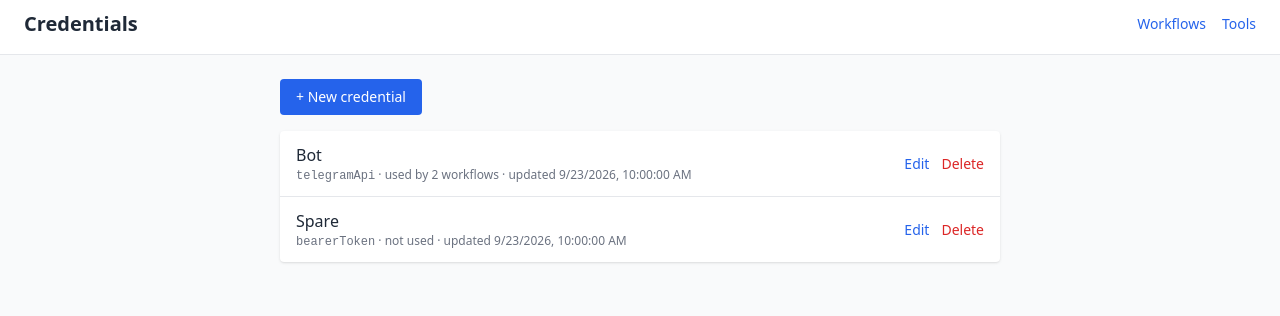
Test: CredentialsView › names the workflows when deletion is refused
Click the button with test id "delete-credential" in the row of "telegramApi" at (963, 164), box [941,154,984,174]
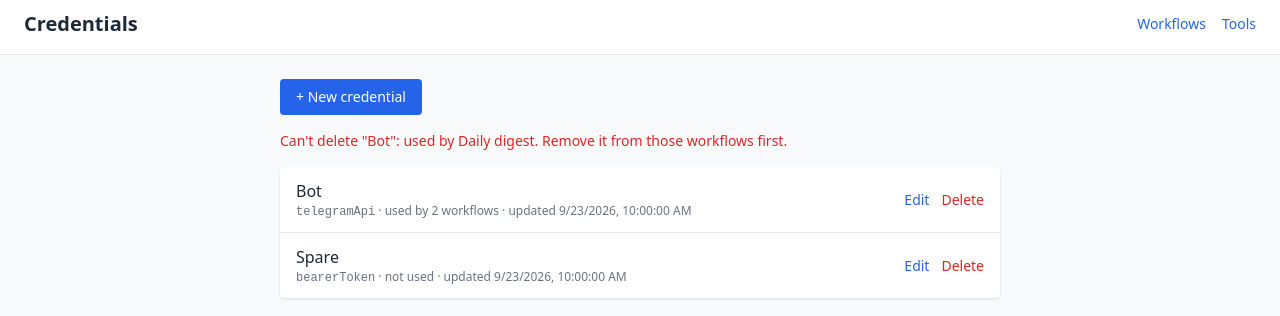
Now the text "Can't delete \"Bot\": used by Daily digest. Remove it from those workflows first." is shown, box [280,131,787,150]
